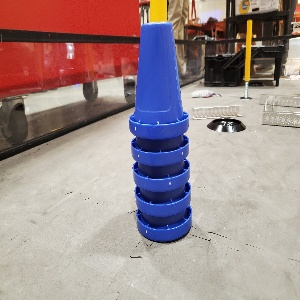Blue_5: (128, 21, 191, 242)
